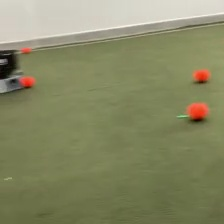ball: (186, 100, 209, 121), (192, 66, 210, 84), (19, 74, 36, 88), (21, 45, 32, 54)
robot: (1, 47, 21, 95)
